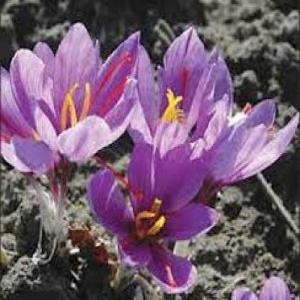Saffron: (89, 147, 222, 293), (30, 25, 140, 167), (116, 26, 222, 150), (206, 86, 300, 194)
